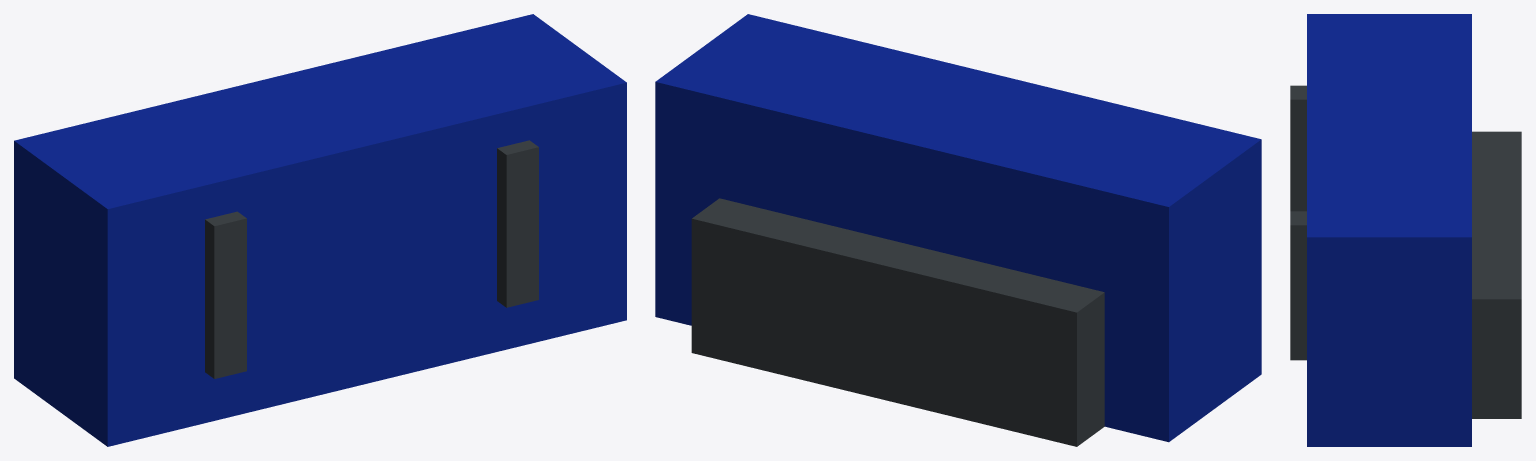
File: fanny_pack.glb
The picture shows the model from 3 angles, left to right: view 1: azimuth 30°, elevation 25°; view 2: azimuth 150°, elevation 25°; view 3: azimuth 270°, elevation 25°; orthographic projection. The views are drawn at different scales.
Visible parts, largest first — view 1: fanny_pack:bag; view 2: fanny_pack:bag; view 3: fanny_pack:bag.
Boxes of the visible parts, x1,y1,x2,y2 form: fanny_pack:bag: [14, 14, 626, 446]; fanny_pack:bag: [655, 14, 1261, 446]; fanny_pack:bag: [1290, 14, 1521, 446].
Bounding box in the file's own units: 0.32 × 0.14 × 0.14.
